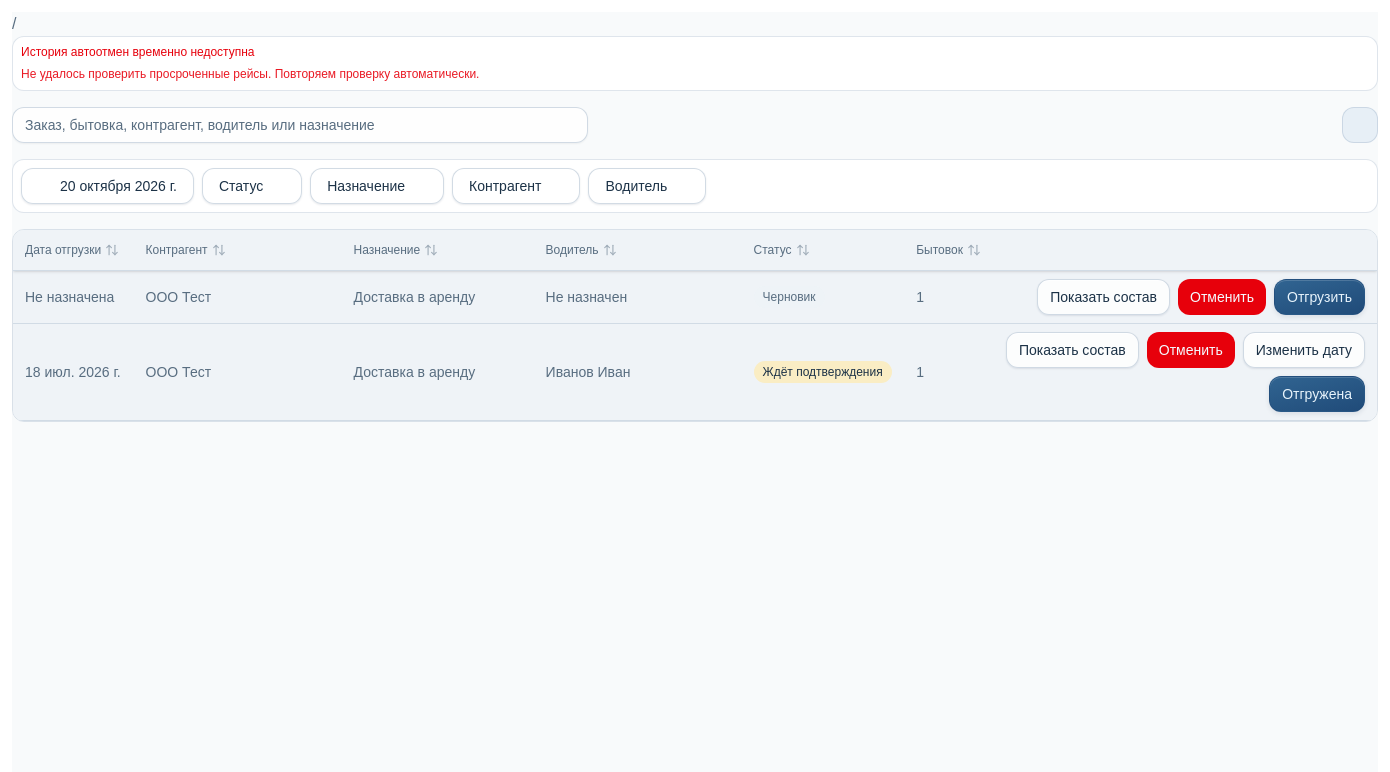
Scenario: LogisticsShipmentsPage › shows cabin and order numbers in the shipment composition
The image size is (1390, 772).
Click the button "Показать состав" in the row of "Не назначена". click: (1104, 297)
box: [1037,279,1170,315]
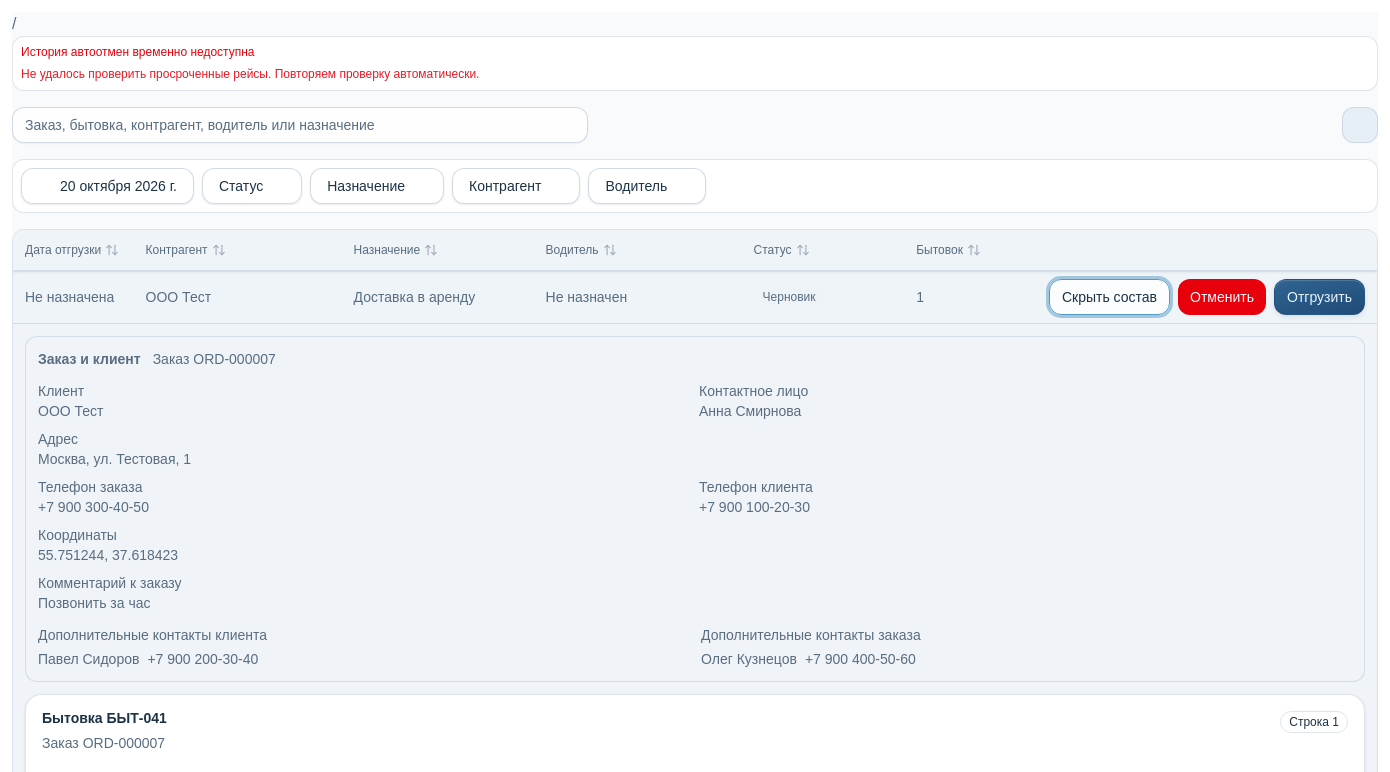
expect the text "Бытовка БЫТ-041" is shown: met, box [42,710,167,726]
